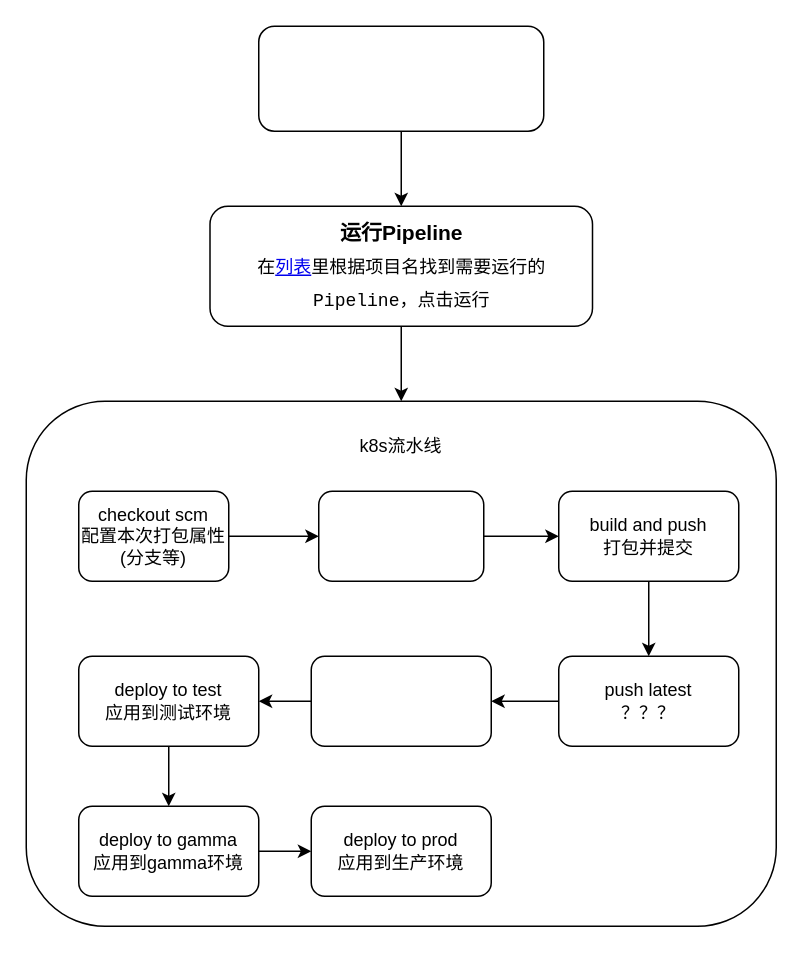
This 803x965 diagram has some shape labels left out. Here are the shapes that lost their labels. From the top down, the centre of each, then its label:
the point at 400,78: 创建 pipeline 运维添加，需要项目仓库地址
the point at 400,535: clone docker file 创建打包环境
the point at 400,700: deploy to dev 应用到开发环境
